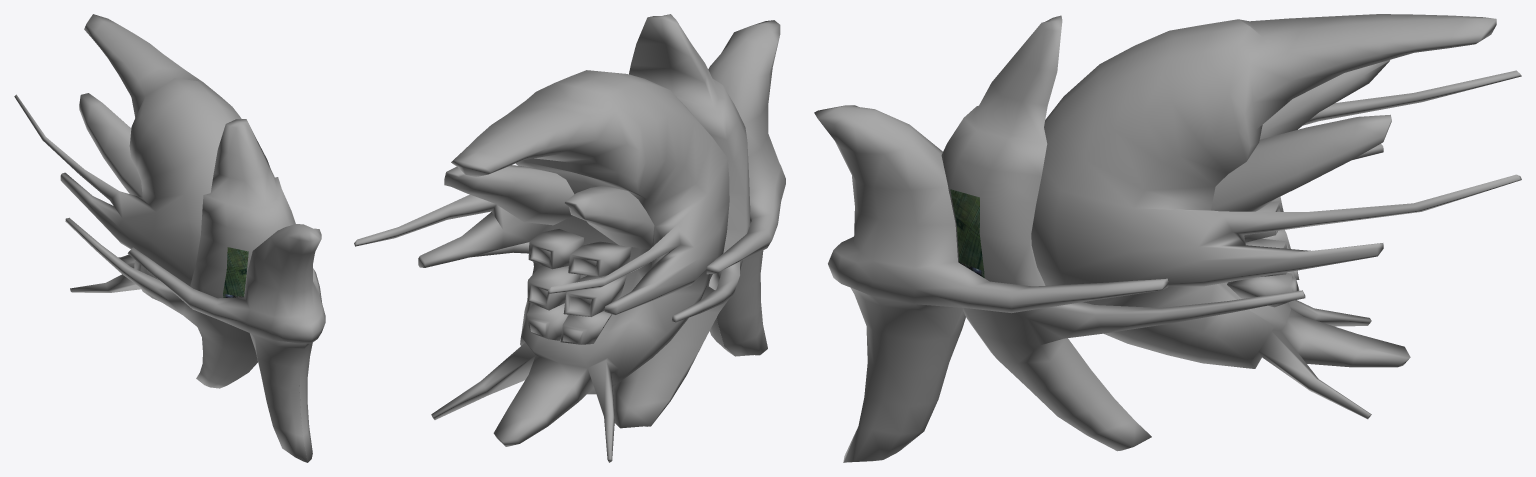
Rendered from MIhalberd.dae.
3 views of the same model, side by side, from view 1: azimuth 30°, elevation 25°; view 2: azimuth 150°, elevation 25°; view 3: azimuth 270°, elevation 25° (orthographic). The views are drawn at different scales.
Parts seen in each view (by area): view 1: Cube; view 2: Cube; view 3: Cube.
Part boxes in pixels (x1,y1,x2,y2): Cube: [14, 14, 325, 462]; Cube: [354, 14, 785, 462]; Cube: [814, 14, 1521, 462].
Size of the model in its own units: 9.62 by 14.73 by 21.28.
Materials: 14 (7 with a texture image).
